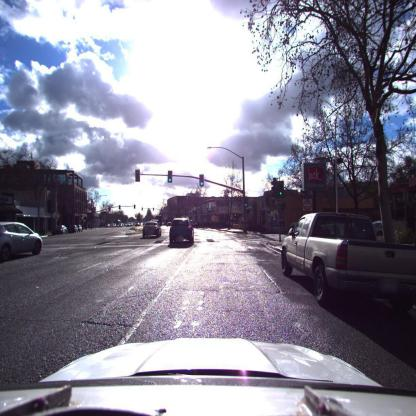car: (278, 211, 416, 314), (1, 221, 44, 264), (170, 218, 196, 247), (142, 219, 162, 238), (164, 222, 172, 227)
traffic light: (271, 177, 285, 199), (168, 172, 174, 184), (198, 175, 204, 187), (243, 198, 249, 209), (135, 169, 140, 182)
